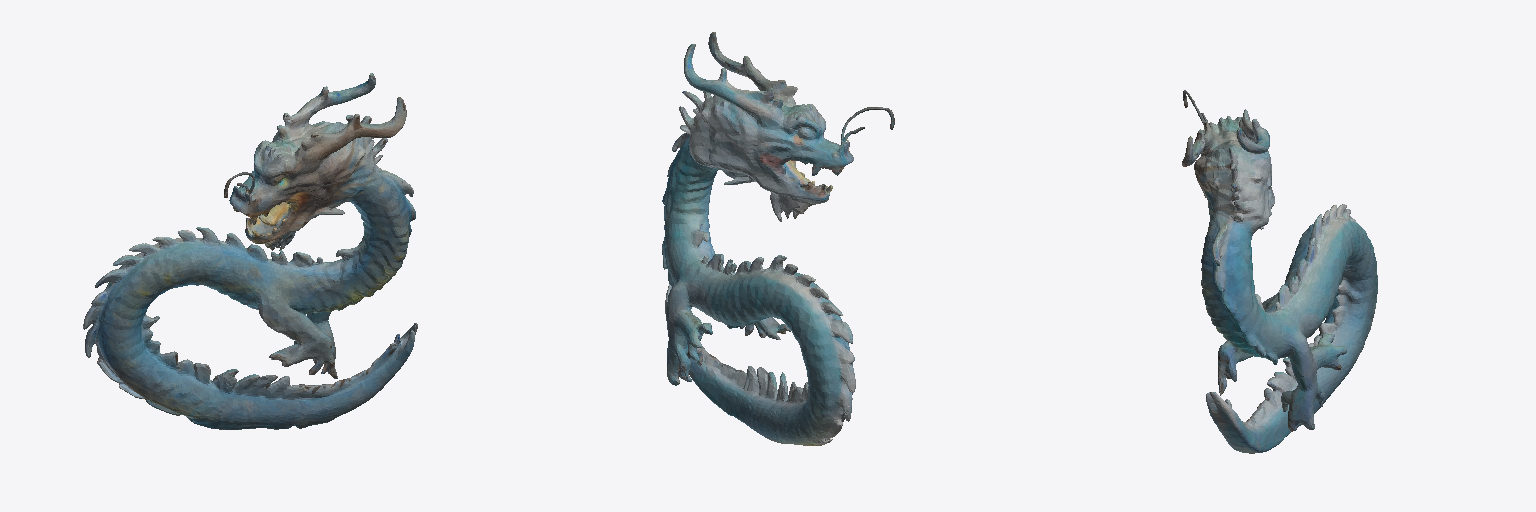
3 views of the same model, side by side, from view 1: azimuth 30°, elevation 25°; view 2: azimuth 150°, elevation 25°; view 3: azimuth 270°, elevation 25° (orthographic).
Parts seen in each view (by area): view 1: file1; view 2: file1; view 3: file1.
Boxes of the visible parts, x1=… form: file1: x1=83, y1=73, x2=417, y2=429; file1: x1=662, y1=32, x2=894, y2=445; file1: x1=1182, y1=90, x2=1377, y2=453.
Size of the model in its own units: 1.55 by 1.99 by 1.02.
1 materials, 1 textured.